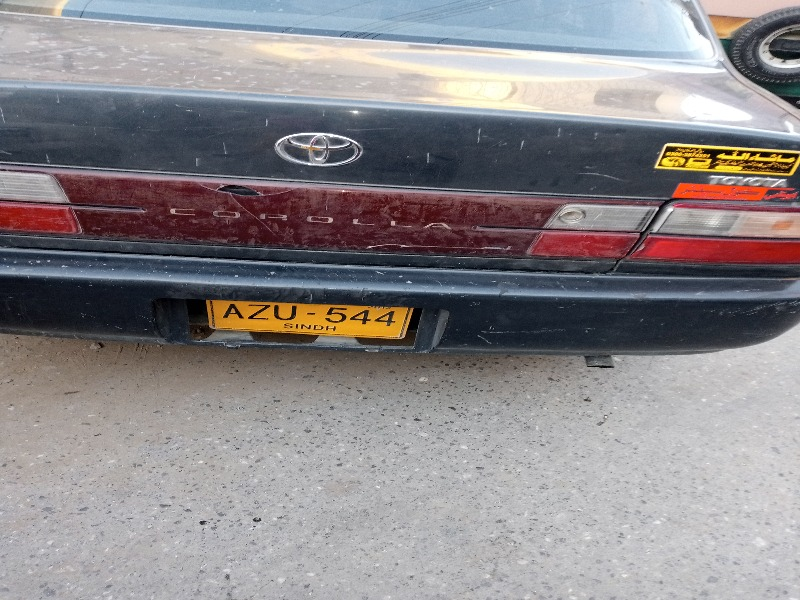License Plate: (202, 291, 414, 350)
